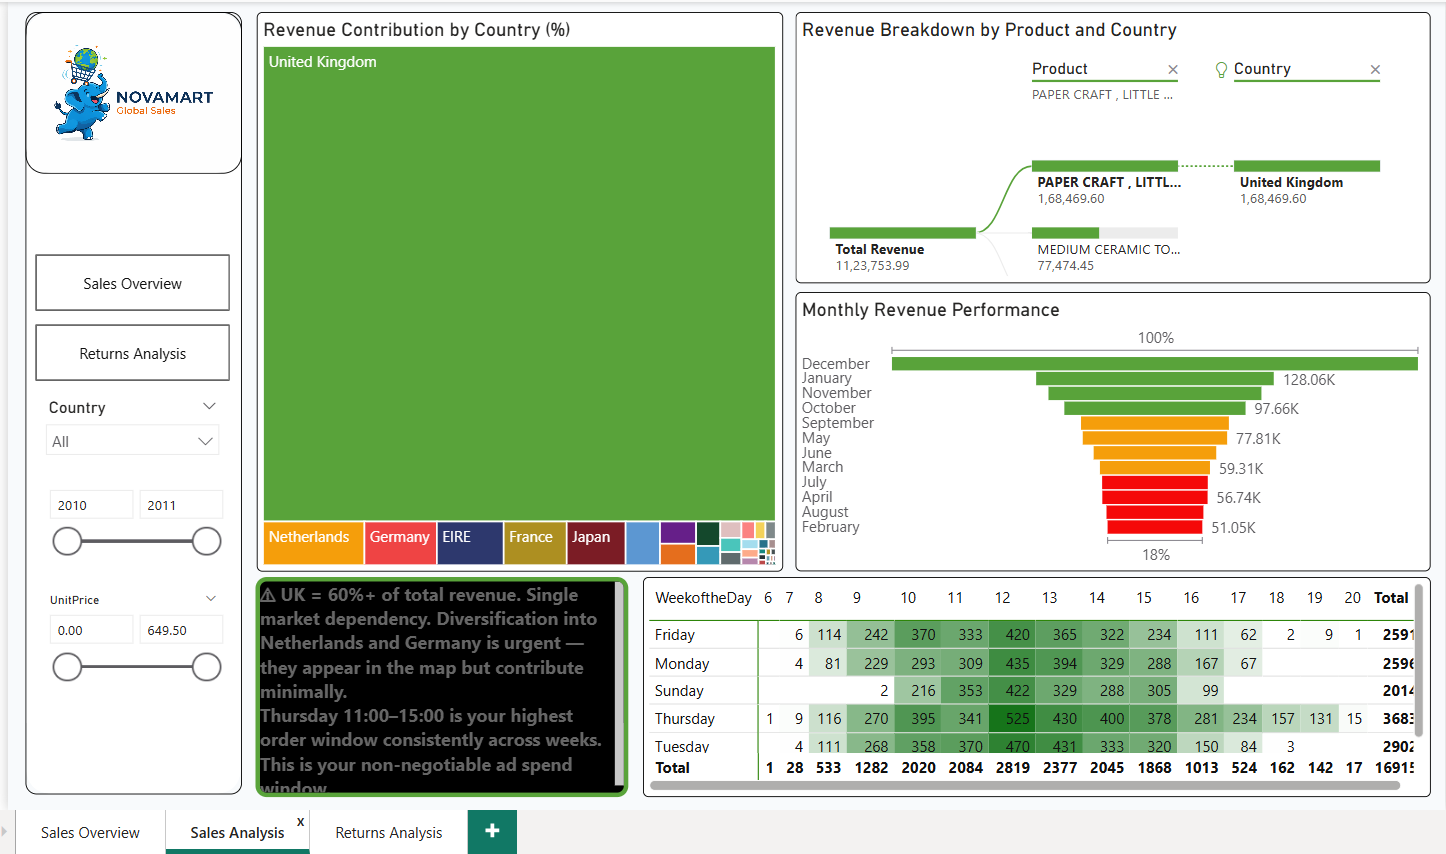

This screenshot's page, from the dashboard's own definition file:
{"tool":"powerbi","page":{"name":"Sales Analysis","canvas":[1280,720],"ordinal":1},"visuals":[{"type":"shape","box":[15.7,8.6,192.9,697.1],"z":0},{"type":"image","box":[15.7,8.6,192.9,144.3],"z":1000},{"type":"pageNavigator","box":[25,225,173.6,50],"z":2000},{"type":"pageNavigator","box":[25,287.5,173.6,50],"z":3000},{"type":"treemap","title":"Revenue Contribution by Country (%)","fields":{"Group":["Sales.Country"],"Values":["Sales.Revenue Shares %"]},"box":[221.4,8.6,468.6,498.6],"z":4000},{"type":"slicer","fields":{"Values":["Sales.Year"]},"box":[25,423.6,173.6,83.3],"z":5000},{"type":"slicer","fields":{"Values":["Sales.Country"]},"box":[23.6,347.2,175,76.4],"z":6000},{"type":"decompositionTreeVisual","title":"Revenue Breakdown by Product and Country","fields":{"ExplainBy":["Sales.Product","Sales.Country"],"Analyze":["Sales.Total Revenue"]},"box":[701.4,8.6,565.7,241.4],"z":7000},{"type":"funnel","title":"Monthly Revenue Performance","fields":{"Category":["Sales.Month_Name"],"Y":["Sales.Total Revenue"]},"box":[701.4,258.6,565.7,248.6],"z":8000},{"type":"textbox","box":[220.9,511.8,332.1,196.2],"z":9000},{"type":"slicer","fields":{"Values":["Sales.UnitPrice"]},"box":[25,520.8,173.6,88.9],"z":10000},{"type":"pivotTable","title":"Peak Sales Time","fields":{"Rows":["Sales.WeekoftheDay"],"Values":["Sales.Total Orders"],"Columns":["Sales.Hour"]},"box":[565.4,511.8,701.2,196.2],"z":11000}]}

Visuals, with their boxes in screenshot pixels (x1, y1, x2, y2):
shape: detection(25, 13, 240, 790)
image: detection(25, 13, 240, 174)
pageNavigator: detection(35, 254, 229, 310)
pageNavigator: detection(35, 324, 229, 380)
"Revenue Contribution by Country (%)" treemap: detection(254, 13, 776, 569)
slicer - Sales.Year: detection(35, 476, 229, 568)
slicer - Sales.Country: detection(34, 391, 229, 476)
"Revenue Breakdown by Product and Country" decompositionTreeVisual: detection(789, 13, 1419, 282)
"Monthly Revenue Performance" funnel: detection(789, 292, 1419, 569)
textbox: detection(254, 574, 624, 793)
slicer - Sales.UnitPrice: detection(35, 584, 229, 683)
"Peak Sales Time" pivotTable: detection(637, 574, 1419, 793)
